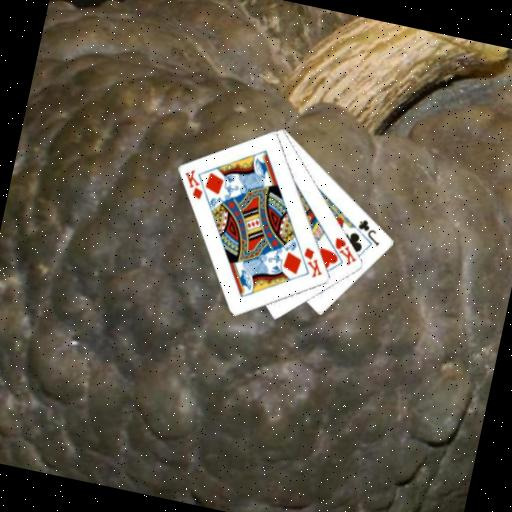JC: (352, 215, 386, 248)
KD: (177, 165, 210, 202), (296, 243, 328, 281)
KH: (327, 234, 362, 269)
